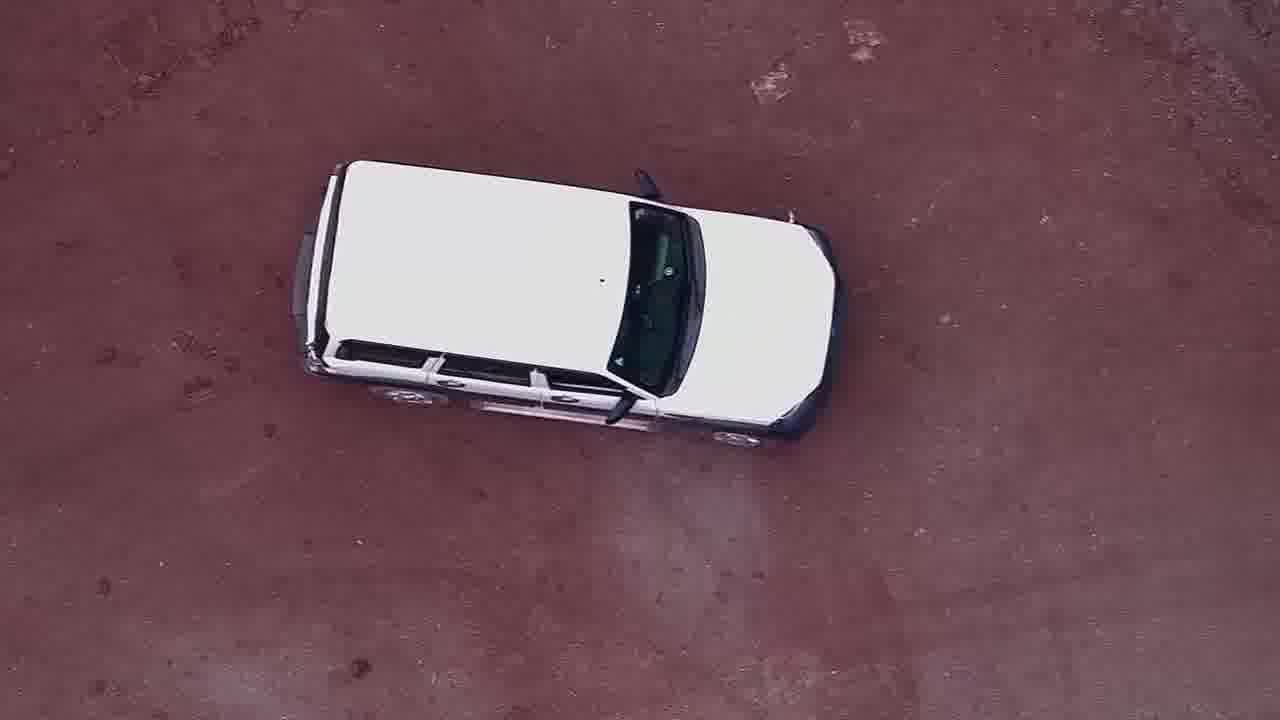light_motor_vehicle: (291, 151, 841, 453)
